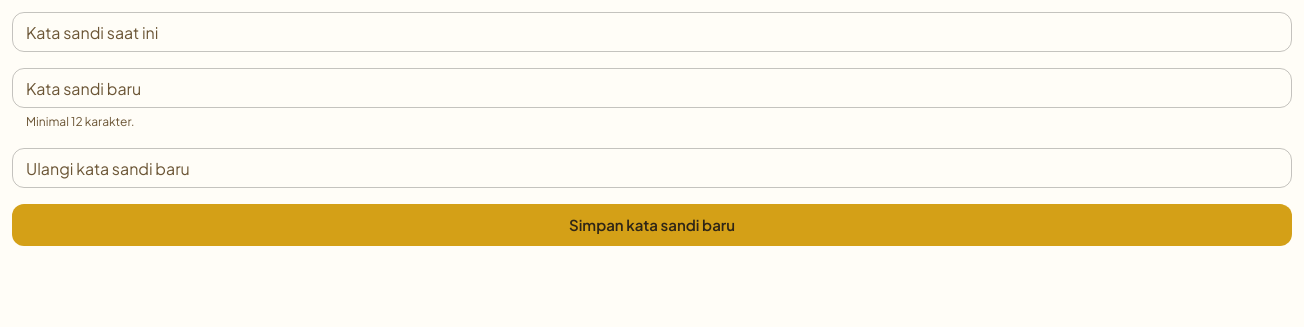
Test: formulir ganti kata sandi › menampilkan galat dari server dan tidak berpindah halaman
This screenshot has width=1304, height=327.
Type "salah" into the password field labelled "Kata sandi saat ini" at x=652, y=32, box x1=12 y1=12 x2=1292 y2=52
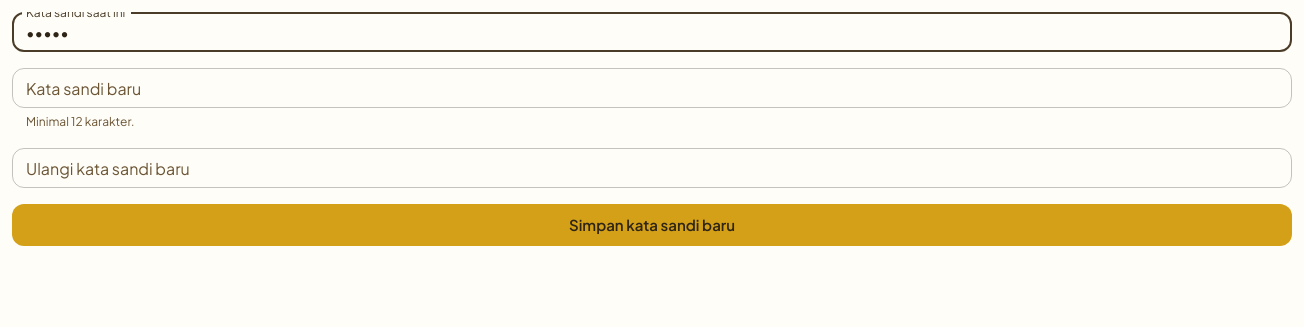
Type "kataSandiBaruPanjang1" into the password field labelled "Kata sandi baru" at x=652, y=88, box x1=12 y1=68 x2=1292 y2=108
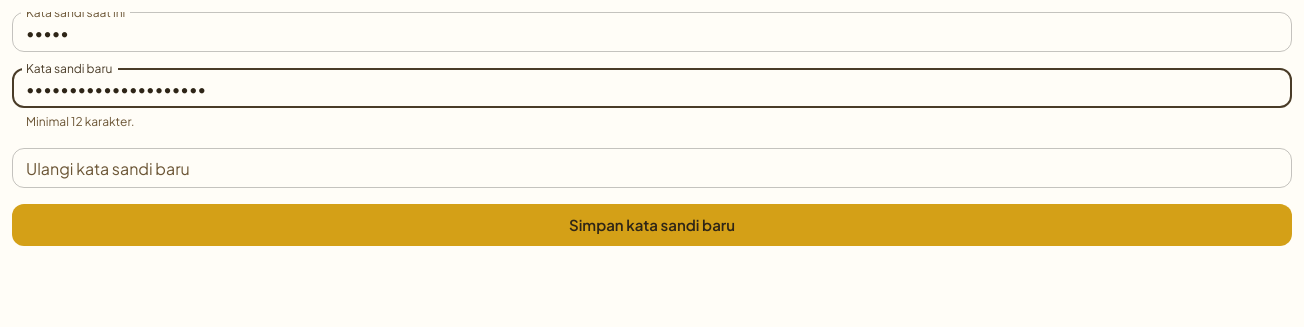
Type "kataSandiBaruPanjang1" into the password field labelled "Ulangi kata sandi baru" at x=652, y=168, box x1=12 y1=148 x2=1292 y2=188
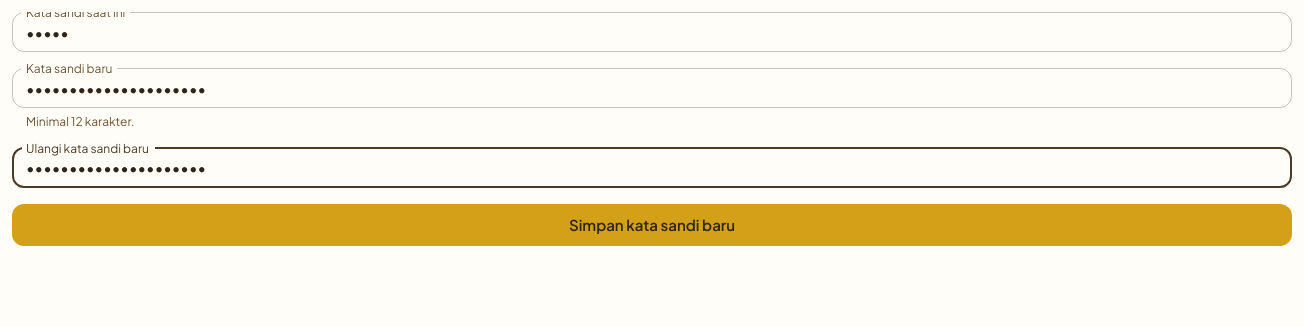
Click the button "Simpan kata sandi baru" at x=652, y=225, box x1=12 y1=204 x2=1292 y2=246
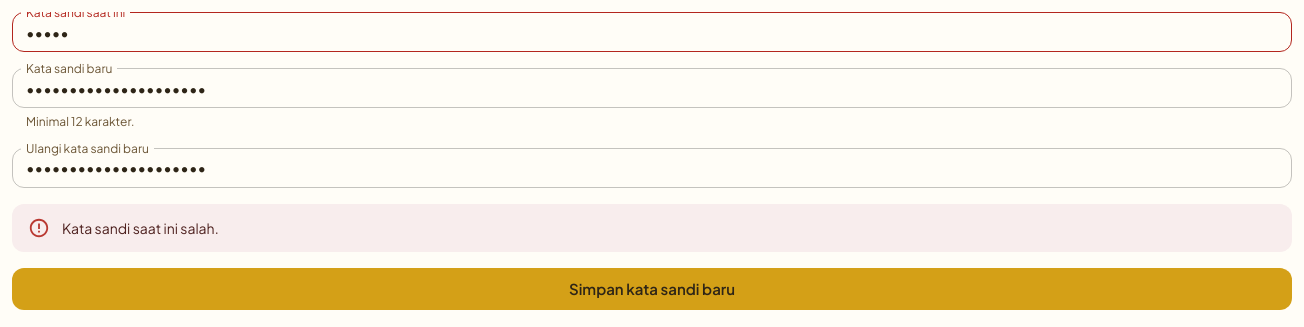
Expected: the button "Simpan kata sandi baru" is enabled, x1=12 y1=268 x2=1292 y2=310
Now the message reads "Kata sandi saat ini salah.", box x1=62 y1=219 x2=219 y2=237
